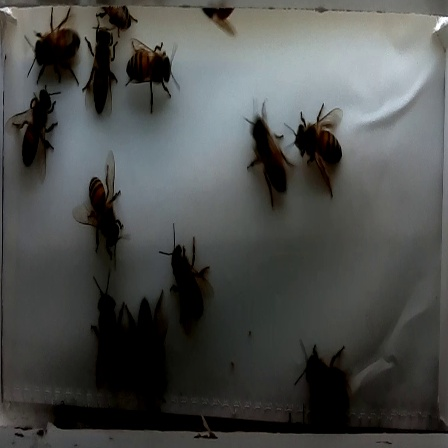bee: (62, 158, 137, 265), (237, 100, 304, 214), (282, 103, 361, 194), (281, 340, 361, 421), (116, 35, 191, 117), (121, 297, 172, 410), (74, 282, 127, 390), (8, 82, 64, 182), (19, 6, 87, 88), (159, 236, 217, 325), (79, 20, 121, 121)
